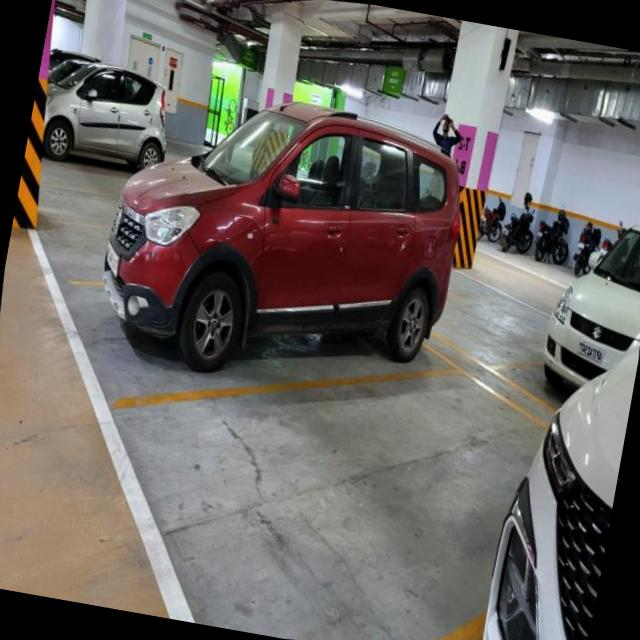car: (80, 164, 450, 426), (514, 206, 640, 433)
free: (64, 311, 521, 640), (424, 268, 560, 378)
